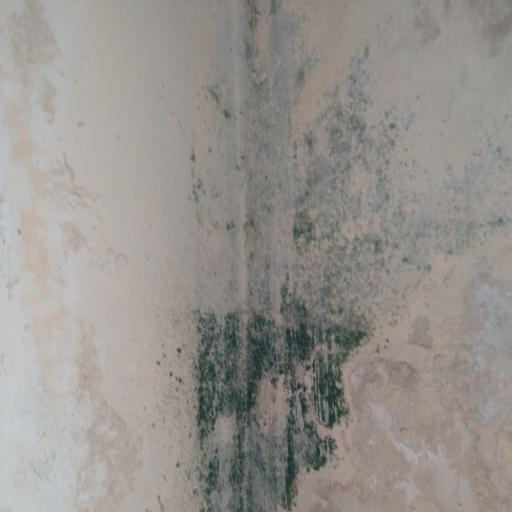algae: (174, 21, 500, 512)
